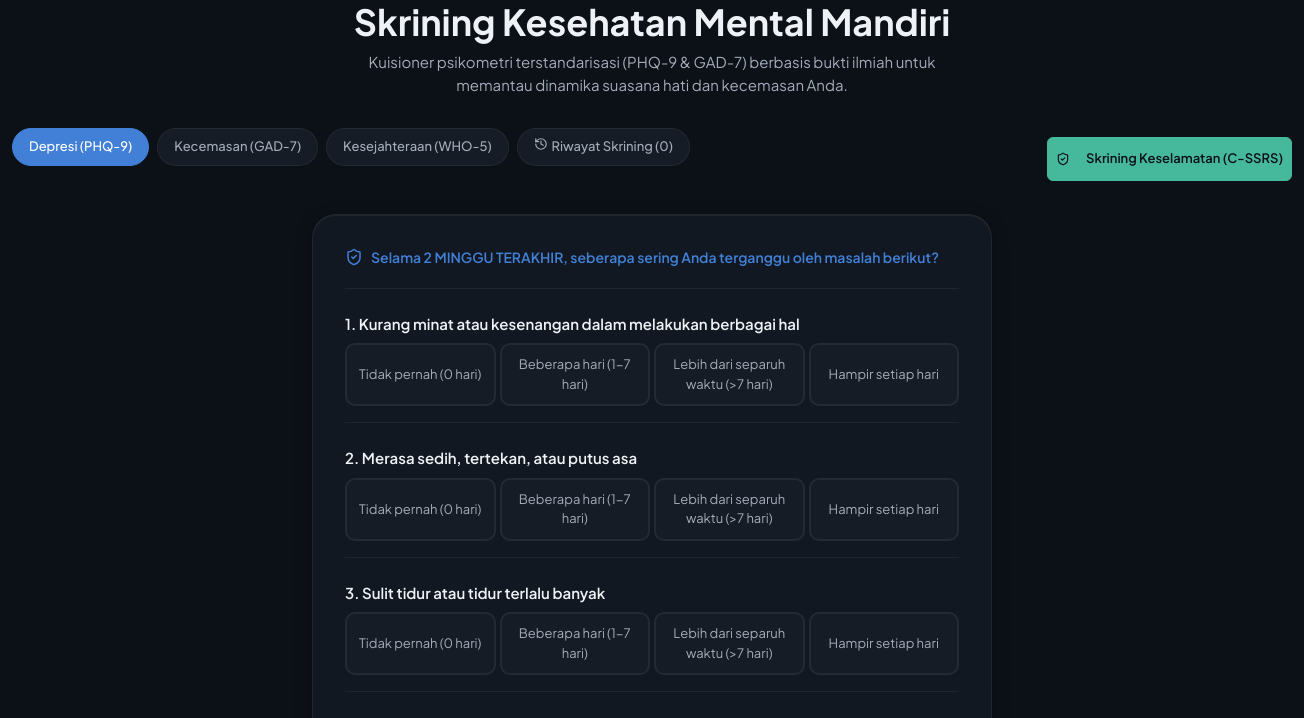
Scenario: Assessment Page & C-SSRS Escalation › renders WHO-5 tab and switches to WHO-5 positive well-being questionnaire
Click the button "Kesejahteraan (WHO-5)". click: (417, 147)
box: x1=326 y1=128 x2=509 y2=166
(page scrolled)
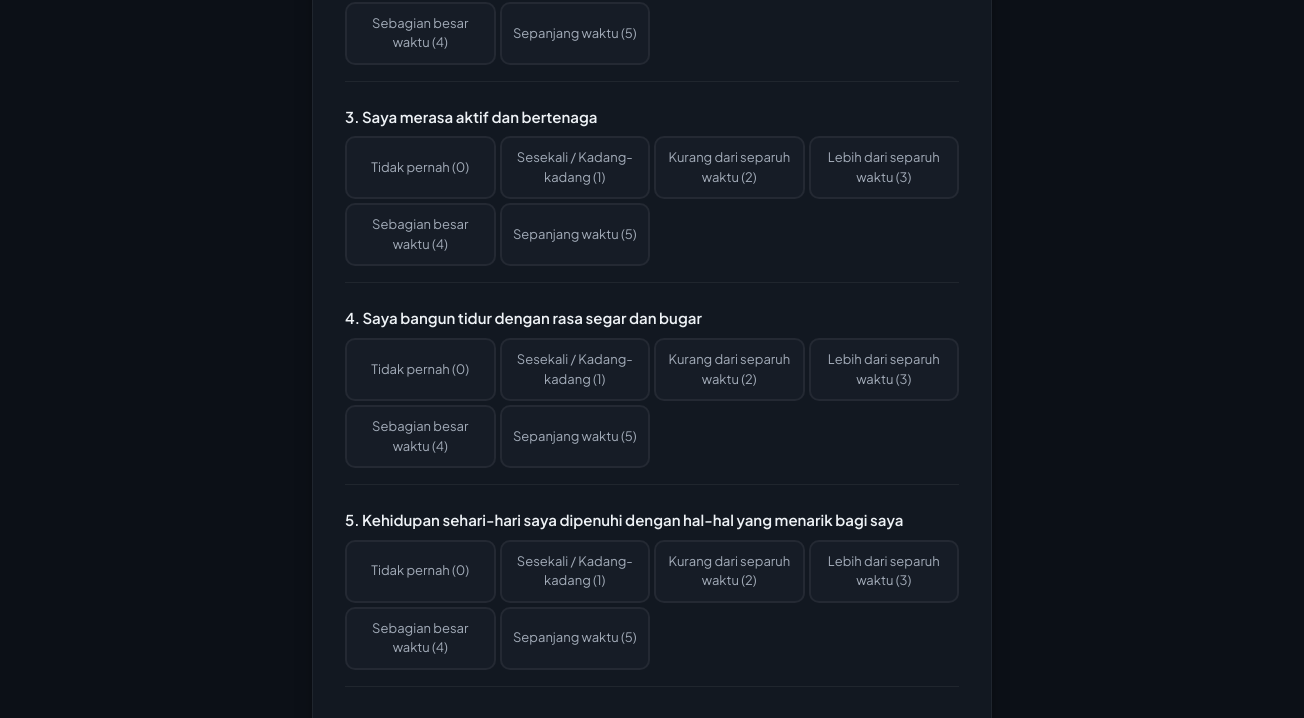
Expected: the text "4. Saya bangun tidur dengan rasa segar dan bugar" is shown, x1=345 y1=308 x2=702 y2=328
